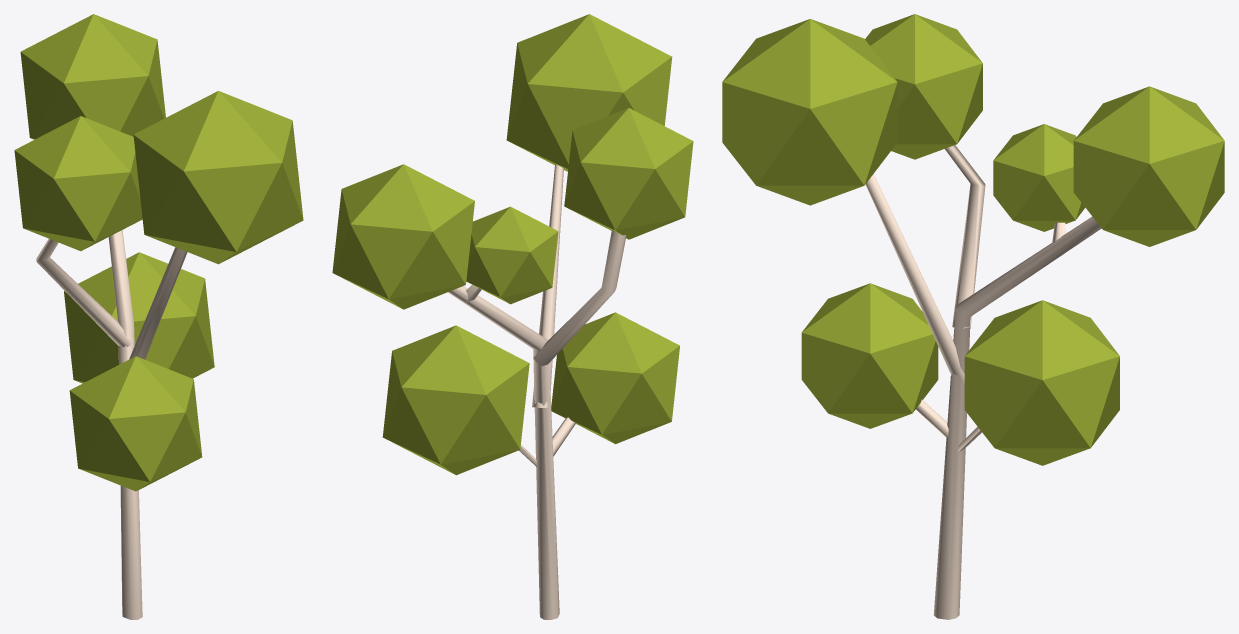
Rendered from Abedul-tree-compressed.glb.
3 renders of one model, left to right at view 1: azimuth 30°, elevation 25°; view 2: azimuth 150°, elevation 25°; view 3: azimuth 270°, elevation 25°, orthographic. The views are drawn at different scales.
Parts seen in each view (by area): view 1: treeLeaves.006, treeLeaves.018, treeLeaves.017, treeLeaves.016, treeLeaves.019, treeBody; view 2: treeLeaves.019, treeLeaves.006, treeLeaves.018, treeLeaves.016, treeLeaves.017, treeBody, treeLeaves.007; view 3: treeLeaves.006, treeLeaves.019, treeLeaves.018, treeBody, treeLeaves.017, treeLeaves.016, treeLeaves.007.
Boxes of the visible parts, <box> form: treeLeaves.006: <box>133,91,303,264</box>; treeLeaves.018: <box>20,14,165,139</box>; treeLeaves.017: <box>69,356,202,491</box>; treeLeaves.016: <box>14,116,142,251</box>; treeLeaves.019: <box>64,252,214,383</box>; treeBody: <box>36,230,187,619</box>; treeLeaves.019: <box>382,325,529,475</box>; treeLeaves.006: <box>506,14,672,171</box>; treeLeaves.018: <box>332,164,474,309</box>; treeLeaves.016: <box>564,108,693,239</box>; treeLeaves.017: <box>551,312,679,444</box>; treeBody: <box>448,164,626,619</box>; treeLeaves.007: <box>466,206,558,304</box>; treeLeaves.006: <box>722,19,897,205</box>; treeLeaves.019: <box>964,300,1119,465</box>; treeLeaves.018: <box>1073,86,1224,246</box>; treeBody: <box>865,145,1101,619</box>; treeLeaves.017: <box>801,283,938,428</box>; treeLeaves.016: <box>865,14,982,159</box>; treeLeaves.007: <box>993,124,1085,231</box>.
Bounding box in the file's own units: 1.57 × 3.48 × 2.61.
7 materials, 7 textured.
